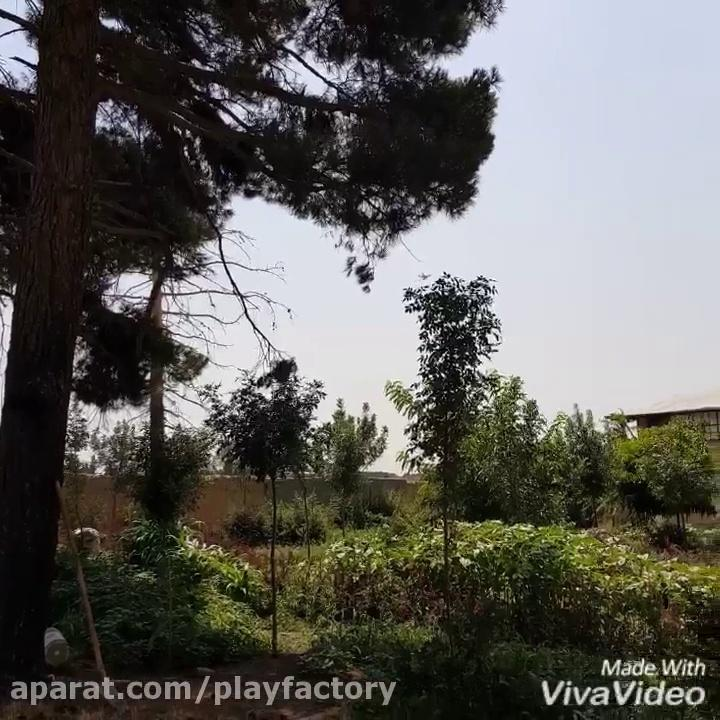drone: (412, 263, 438, 284)
